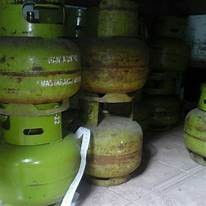gas_ijo: (1, 1, 82, 115), (1, 110, 80, 206), (73, 96, 143, 186), (81, 7, 145, 97), (141, 69, 184, 132), (185, 82, 206, 164)
